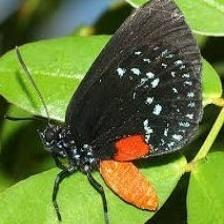butterfly: (41, 0, 203, 212)
